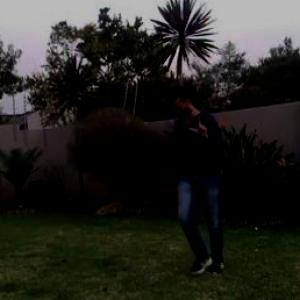land_hand: (186, 113, 213, 139)
